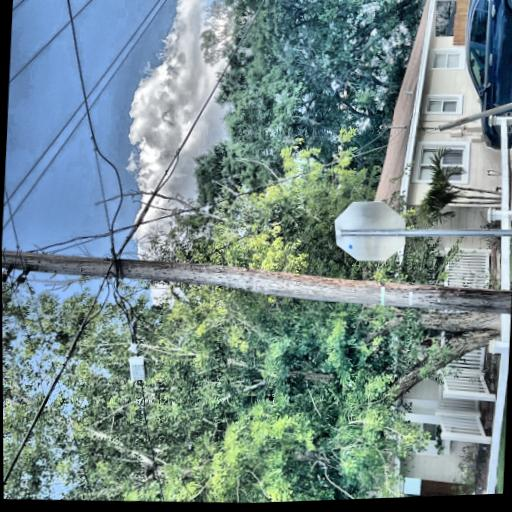insulator: (28, 5, 39, 18)
pole: (15, 0, 131, 503)
street light: (10, 0, 107, 99)
